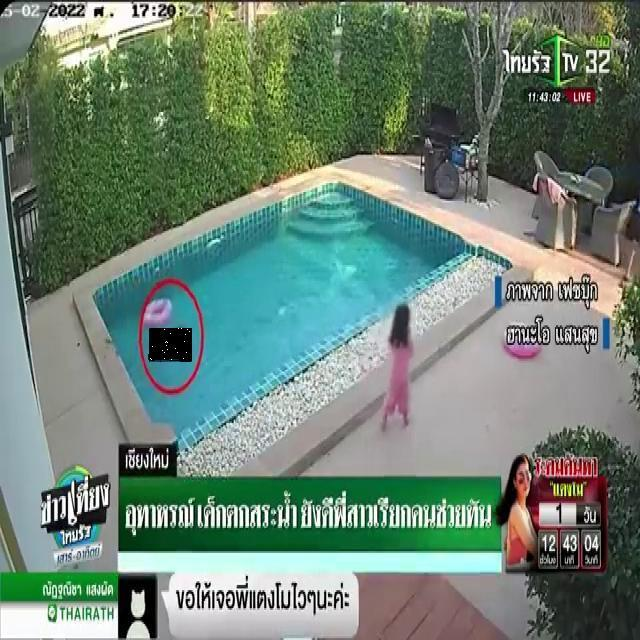Out of Water: (149, 328, 192, 362)
